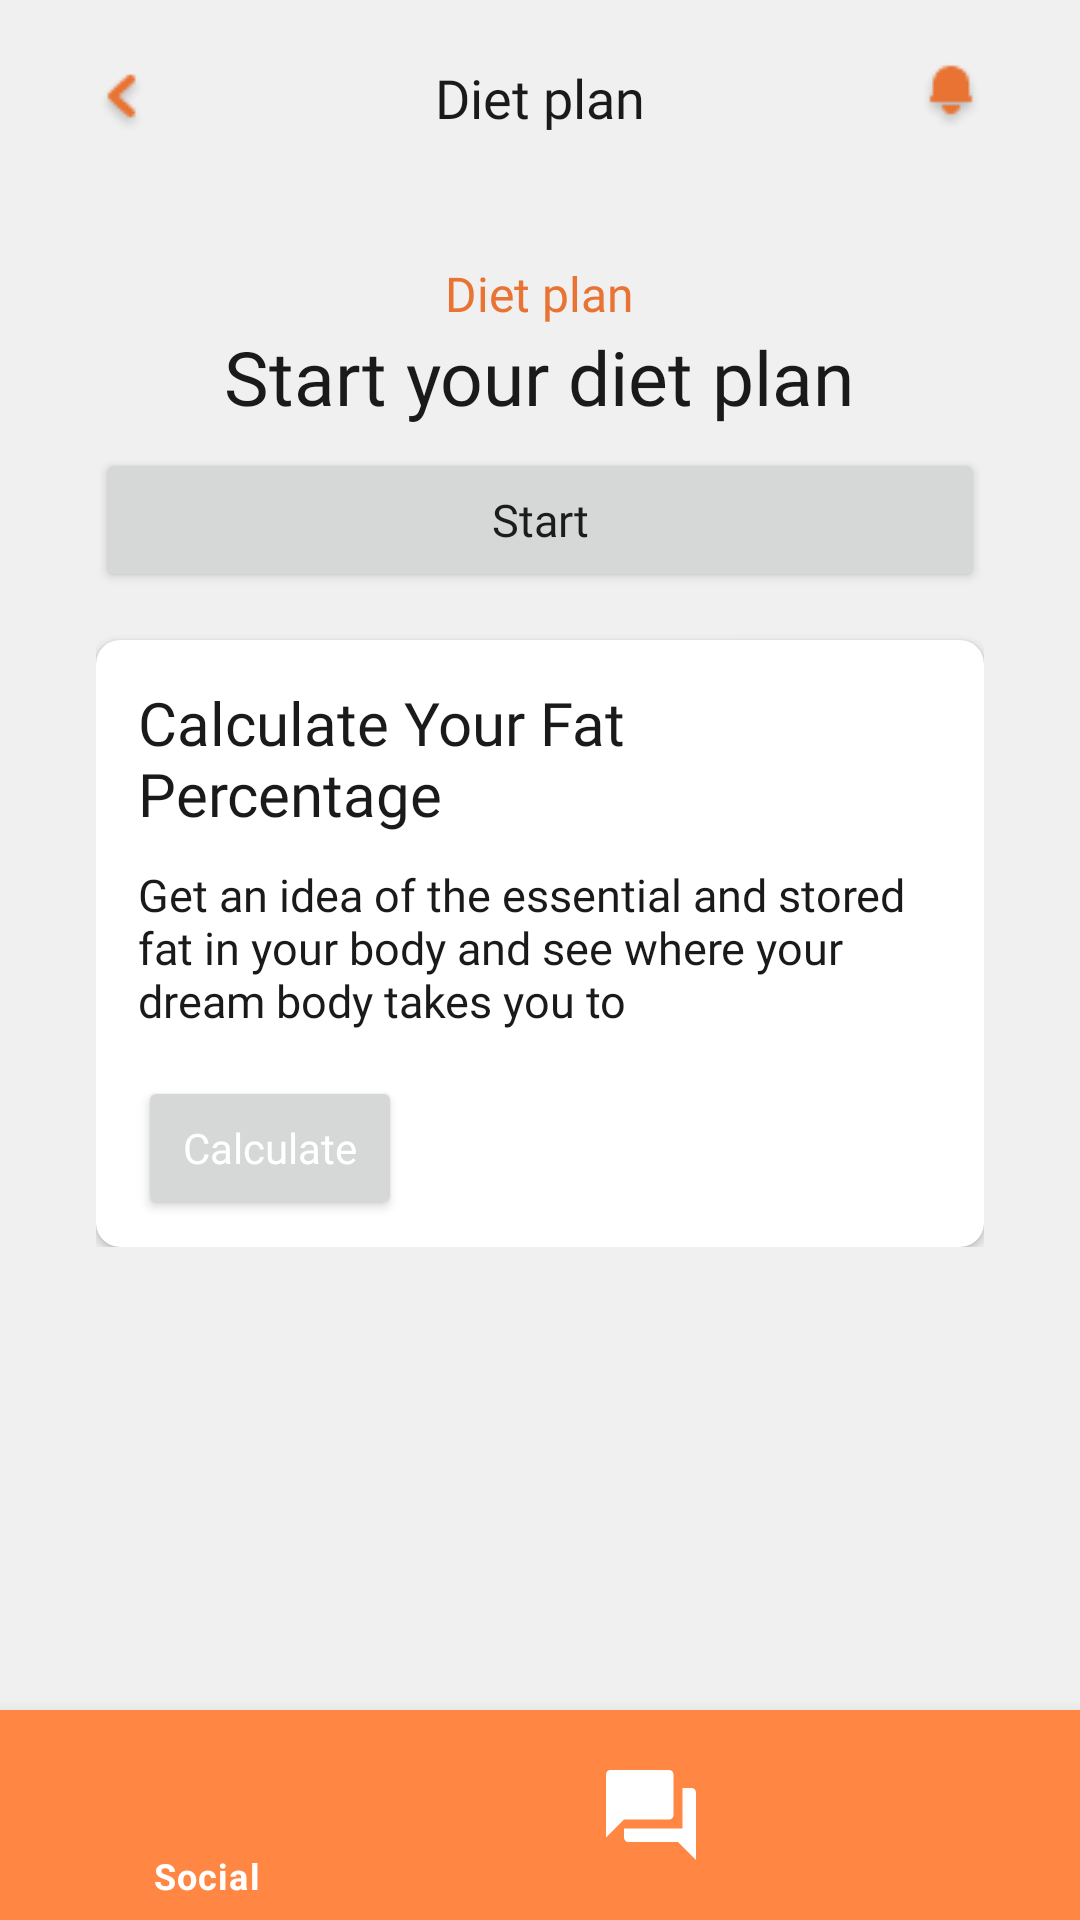

Named icons in this screenshot (1080 × 1920) and their bounding boxes, (x1, y1, x2, y2):
Back: (107, 74, 136, 120)
Notify: (929, 65, 973, 118)
